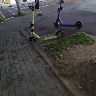beam: (54, 1, 84, 31)
gcooter: (24, 4, 66, 45)
